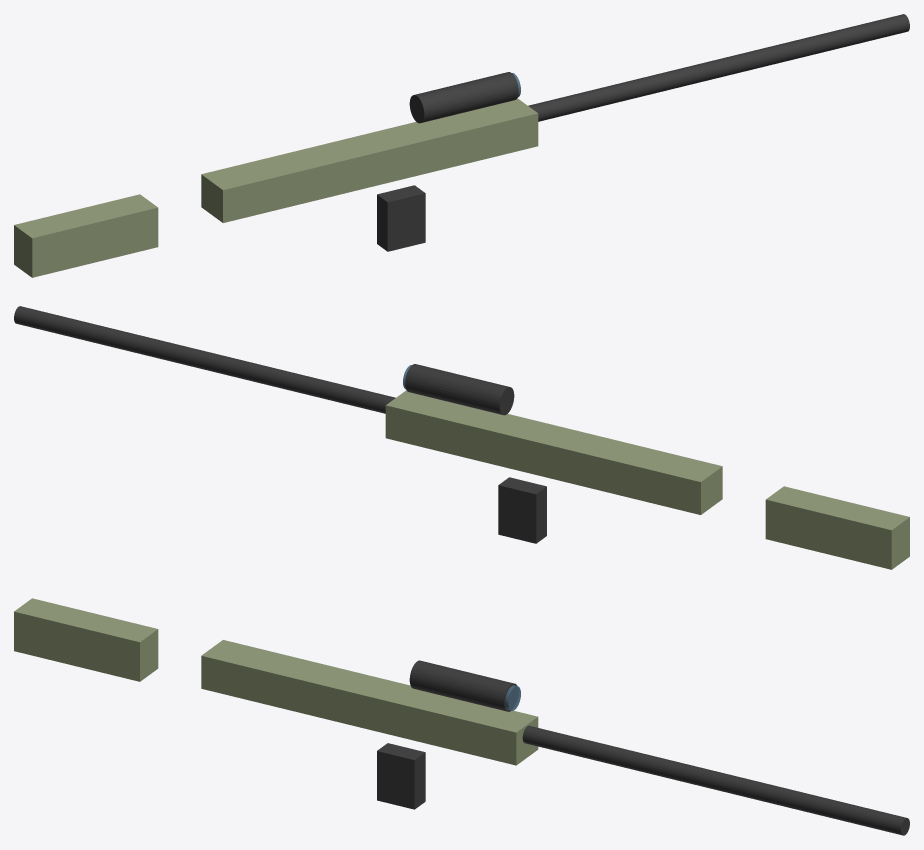
File: AWP.glb
3 renders of one model, top to bottom at view 1: azimuth 30°, elevation 25°; view 2: azimuth 150°, elevation 25°; view 3: azimuth 330°, elevation 25°, orthographic.
Parts seen in each view (by area): view 1: Cube; view 2: Cube; view 3: Cube.
Boxes of the visible parts, box(x1,y1,x2,y2) form: Cube: box(14, 14, 909, 277); Cube: box(14, 306, 909, 569); Cube: box(14, 598, 909, 835).
Bounding box in the file's own units: 2.8 × 0.435 × 0.12.
